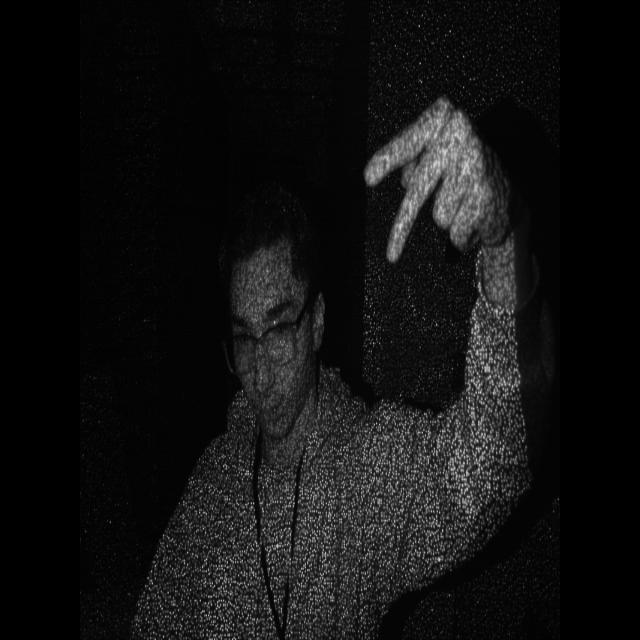P: (362, 70, 488, 290)
